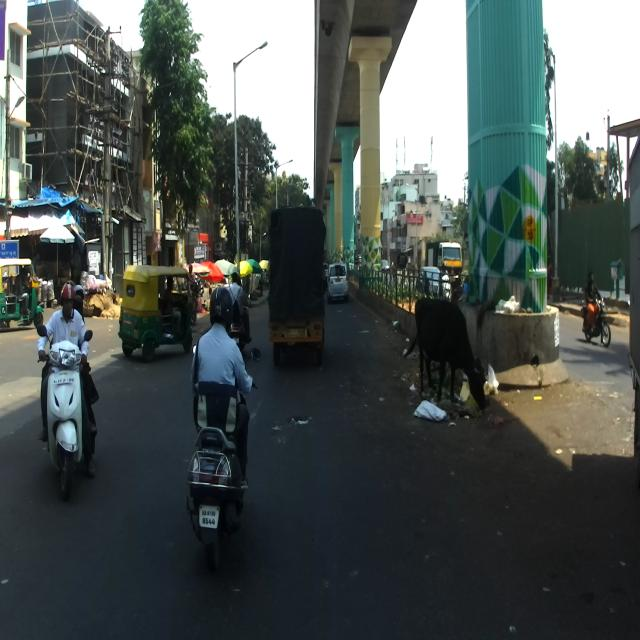auto ahead at: (122, 257, 189, 356)
cattle ahead at: (405, 293, 493, 419)
motorcycle ahead at: (36, 320, 96, 487), (192, 420, 248, 550)
truck ahead at: (264, 206, 330, 366)
